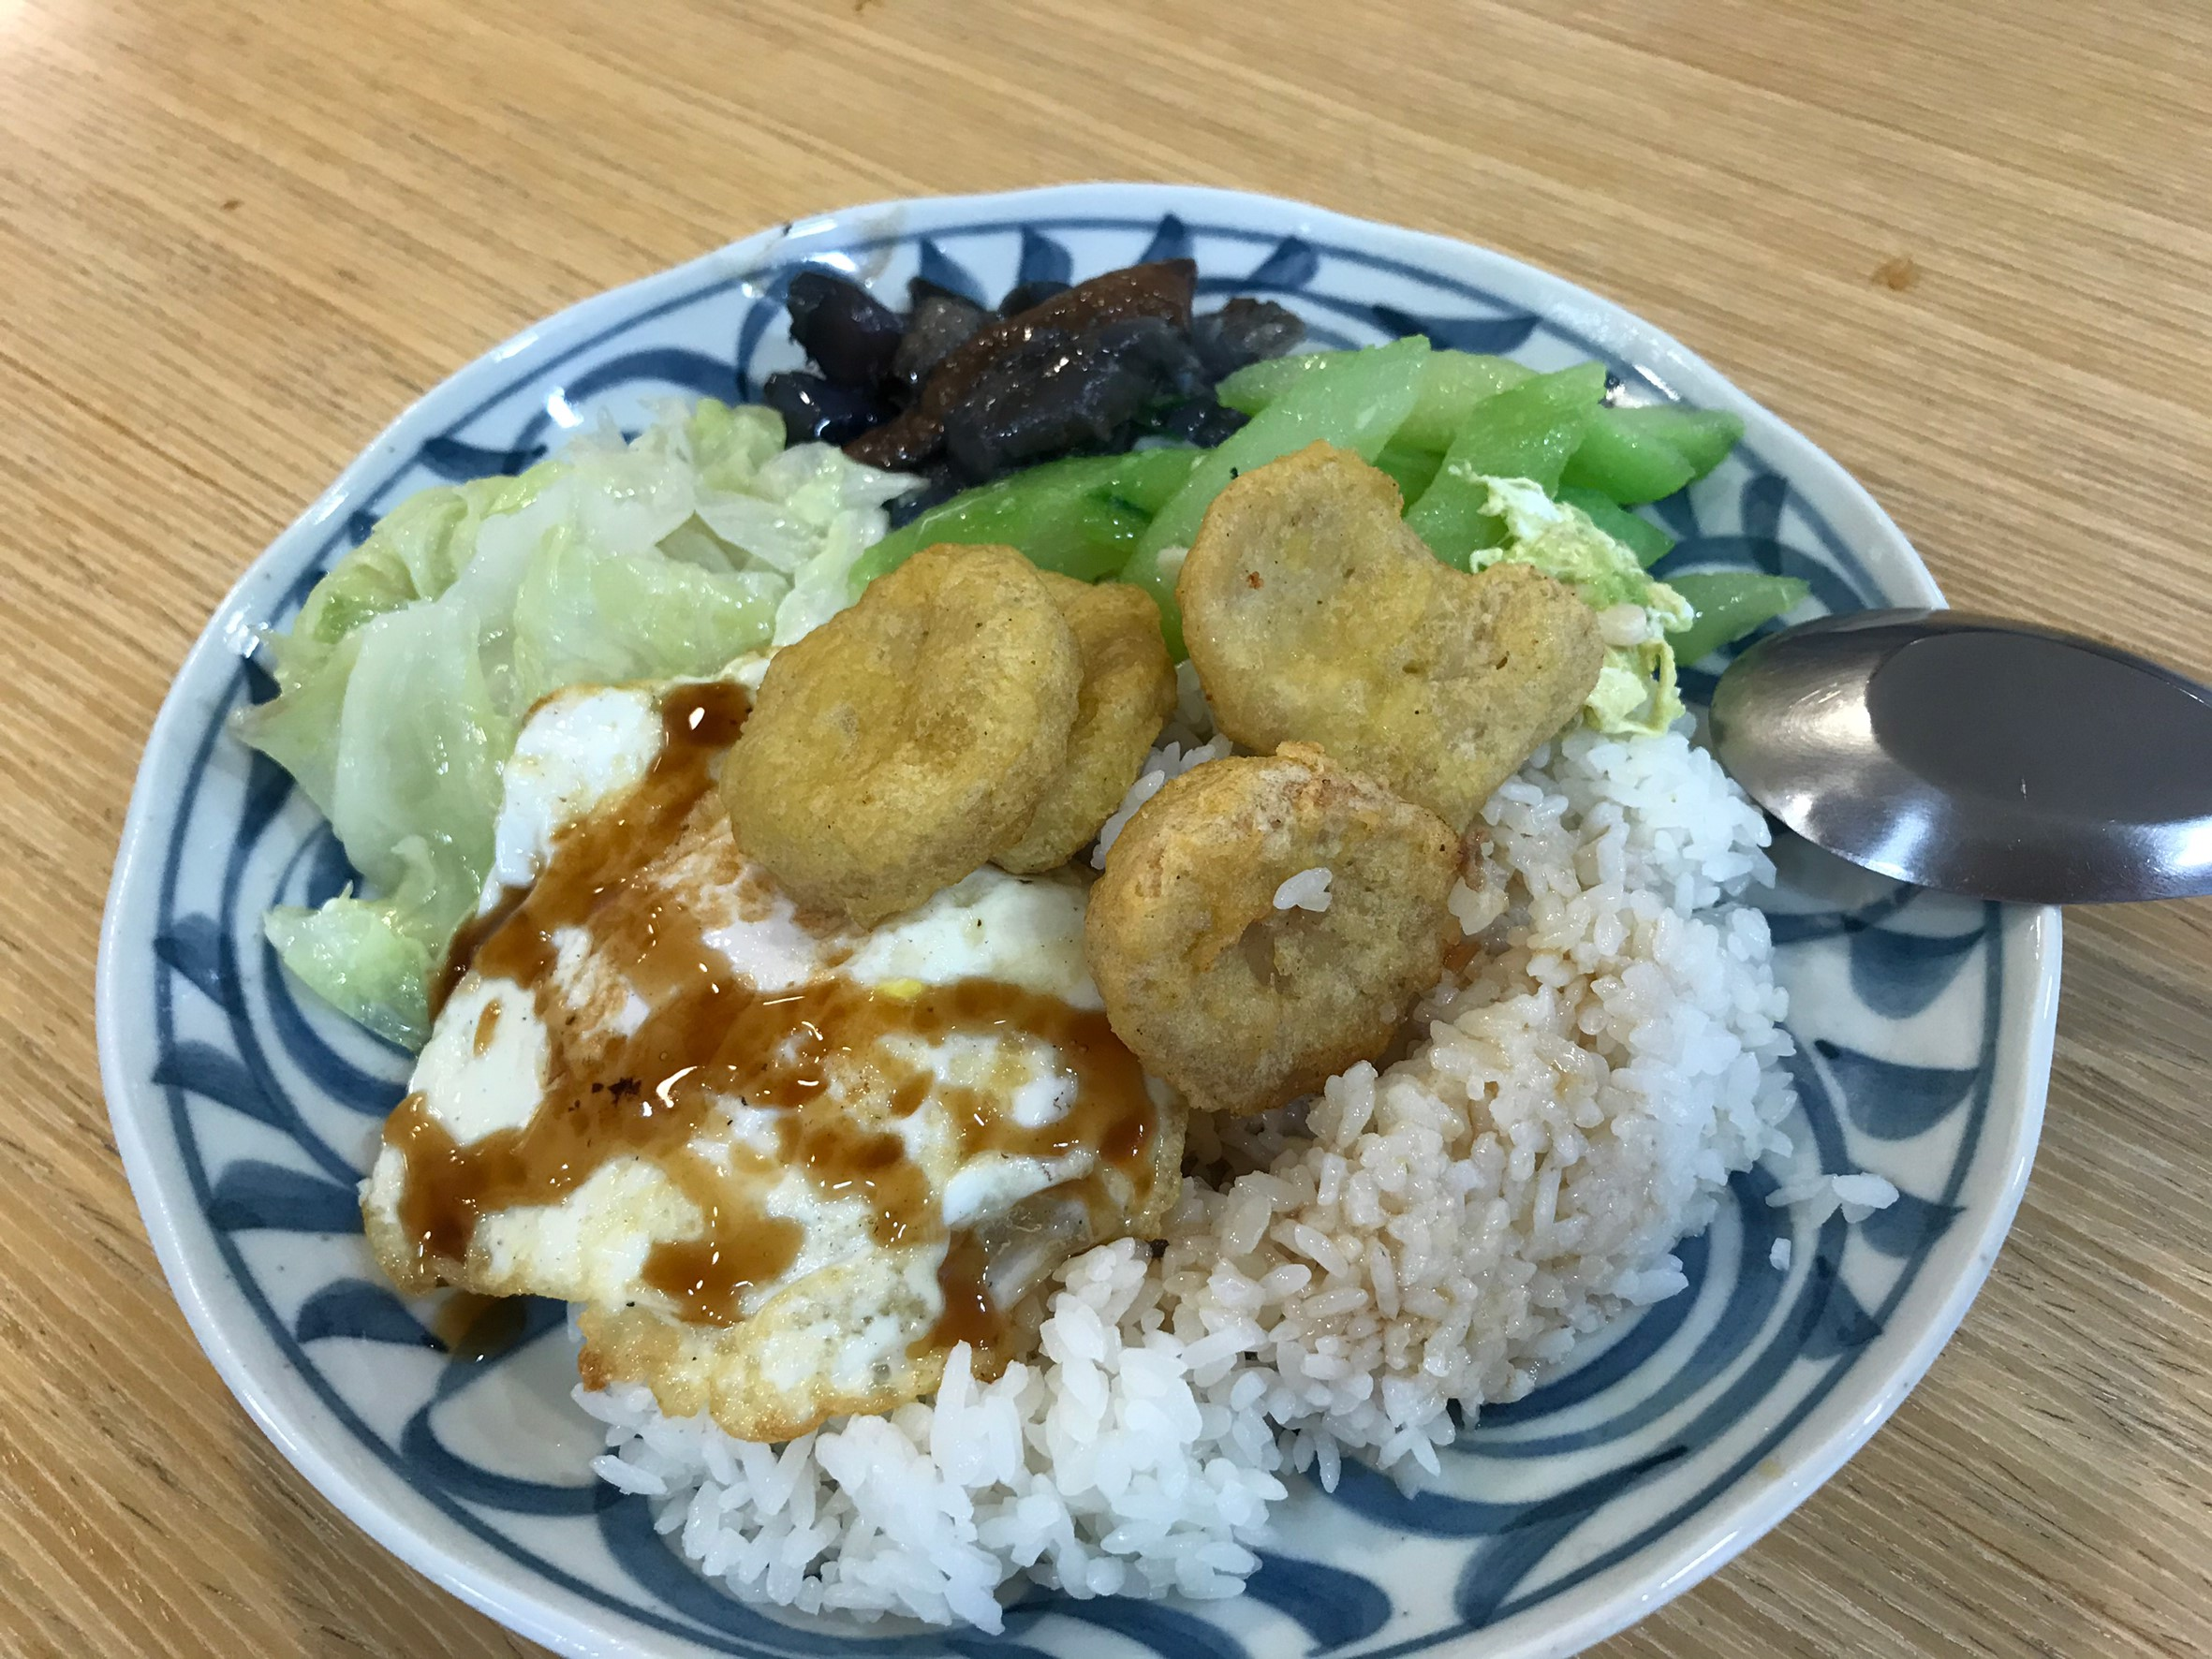chicken_nuggets: (739, 448, 1584, 1089)
chinese_cabbage: (364, 453, 720, 727)
fried_eggs: (363, 772, 1117, 1436)
rice: (1482, 775, 1757, 1227), (671, 1392, 1203, 1622), (1204, 1122, 1476, 1530)
